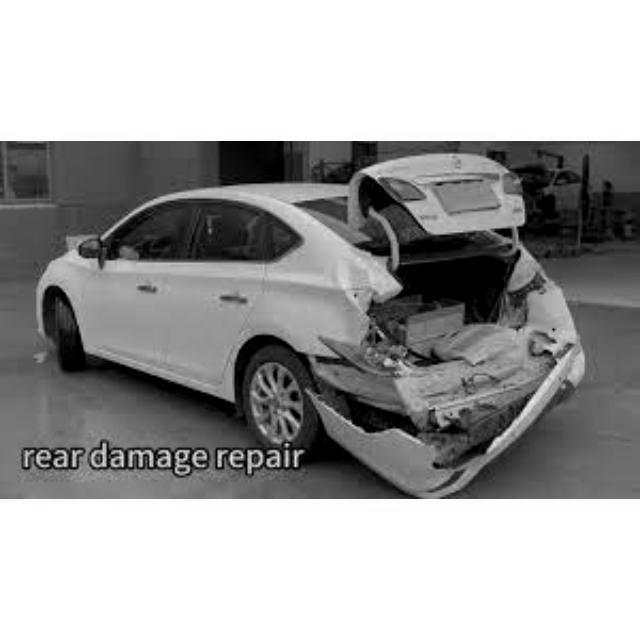Taillight-Damage: (330, 335, 432, 382), (520, 264, 558, 299)
boot-dent: (364, 158, 521, 352)
quaterpanel-dent: (322, 252, 375, 333)
rear-bumper-dent: (336, 360, 564, 481)
